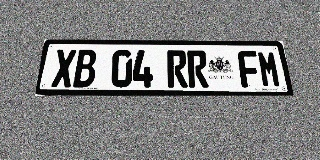0: (111, 50, 133, 87)
4: (132, 50, 153, 87)
B: (73, 49, 97, 87)
F: (237, 51, 262, 87)
M: (257, 51, 282, 87)
R: (187, 50, 209, 87), (167, 50, 188, 87)
X: (51, 49, 76, 87)
